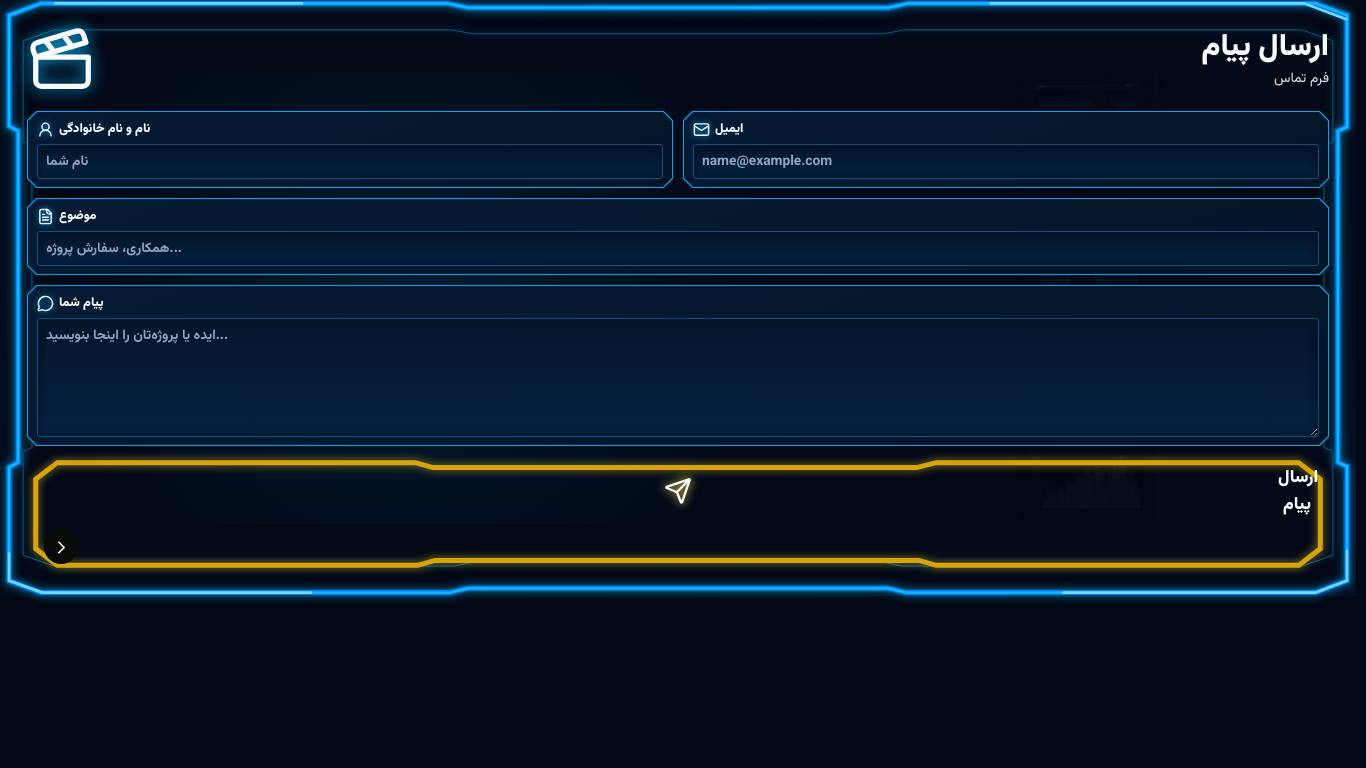
contact message behavior › keeps input available for retry after {}
This screenshot has width=1366, height=768.
Type "Test Editor" into the field labelled "نام و نام خانوادگی" at (350, 162), box [37,144,663,179]
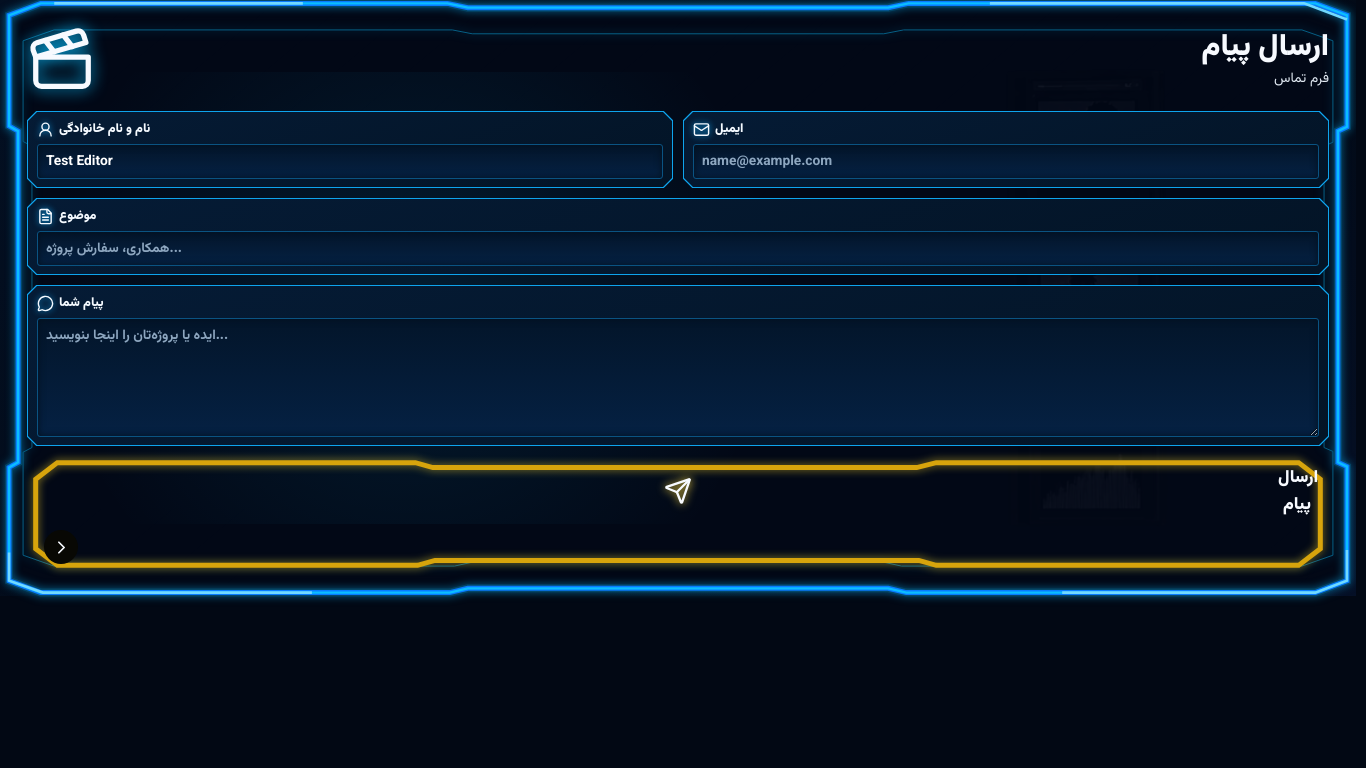
Type "test@example.com" into the field labelled "ایمیل" at (1006, 162), box [693,144,1319,179]
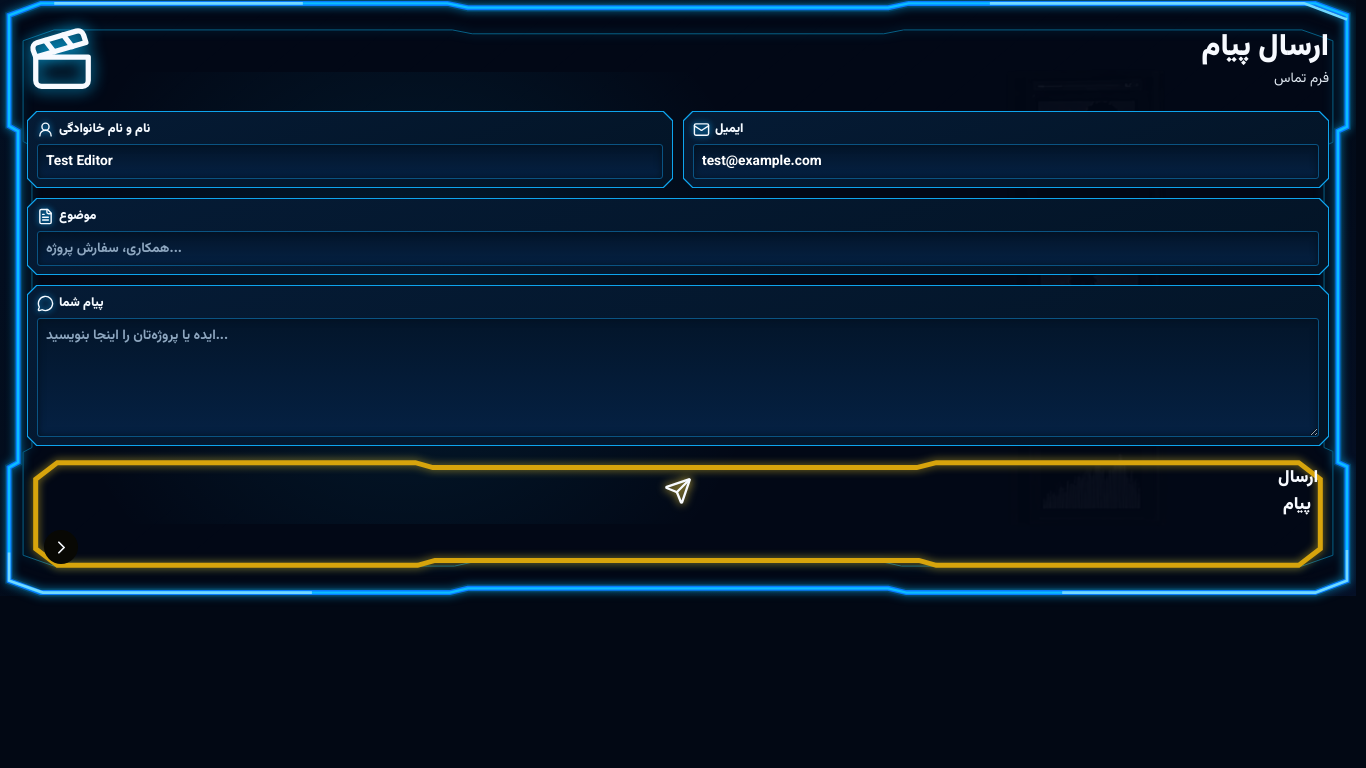
Type "Project request" into the field labelled "موضوع" at (678, 248), box [37,231,1319,266]
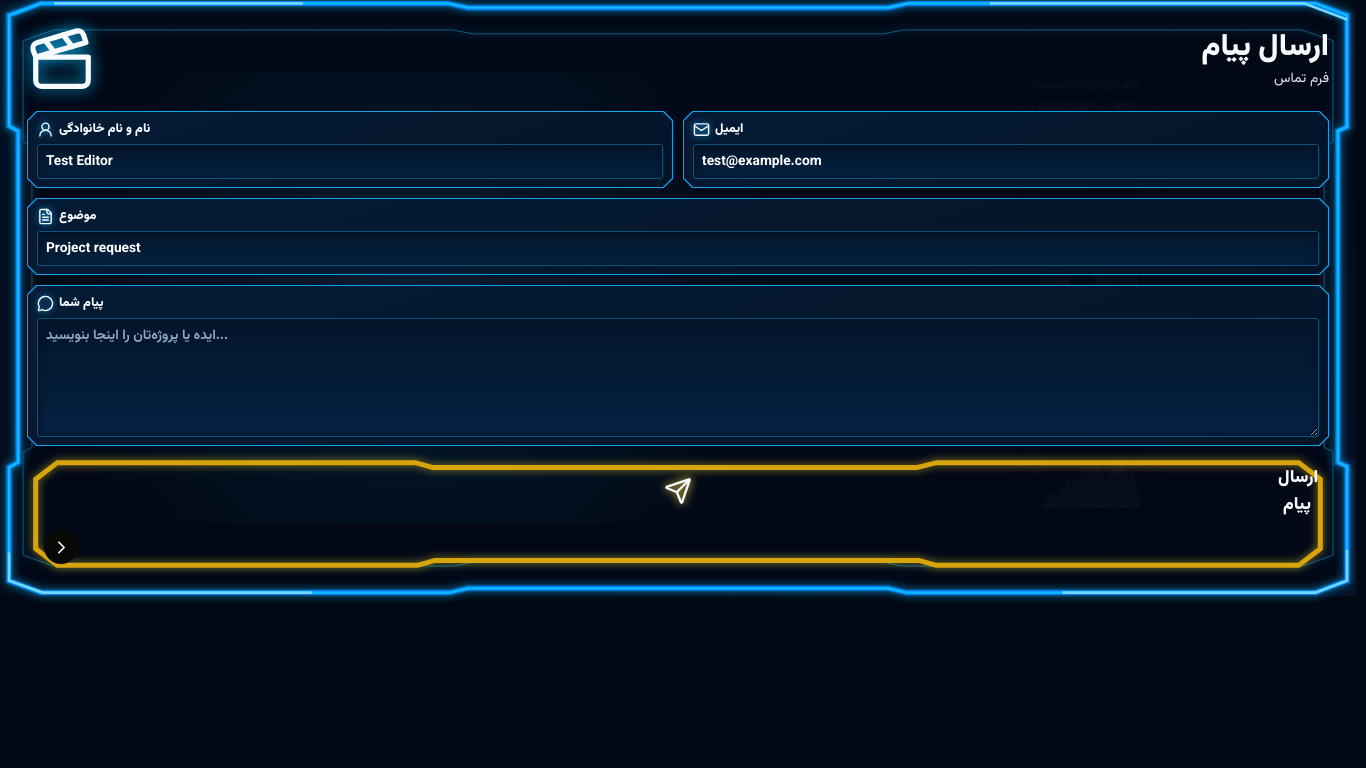
Type "Please edit a sample video project." into the text box labelled "پیام شما" at (678, 378), box [37,318,1319,437]
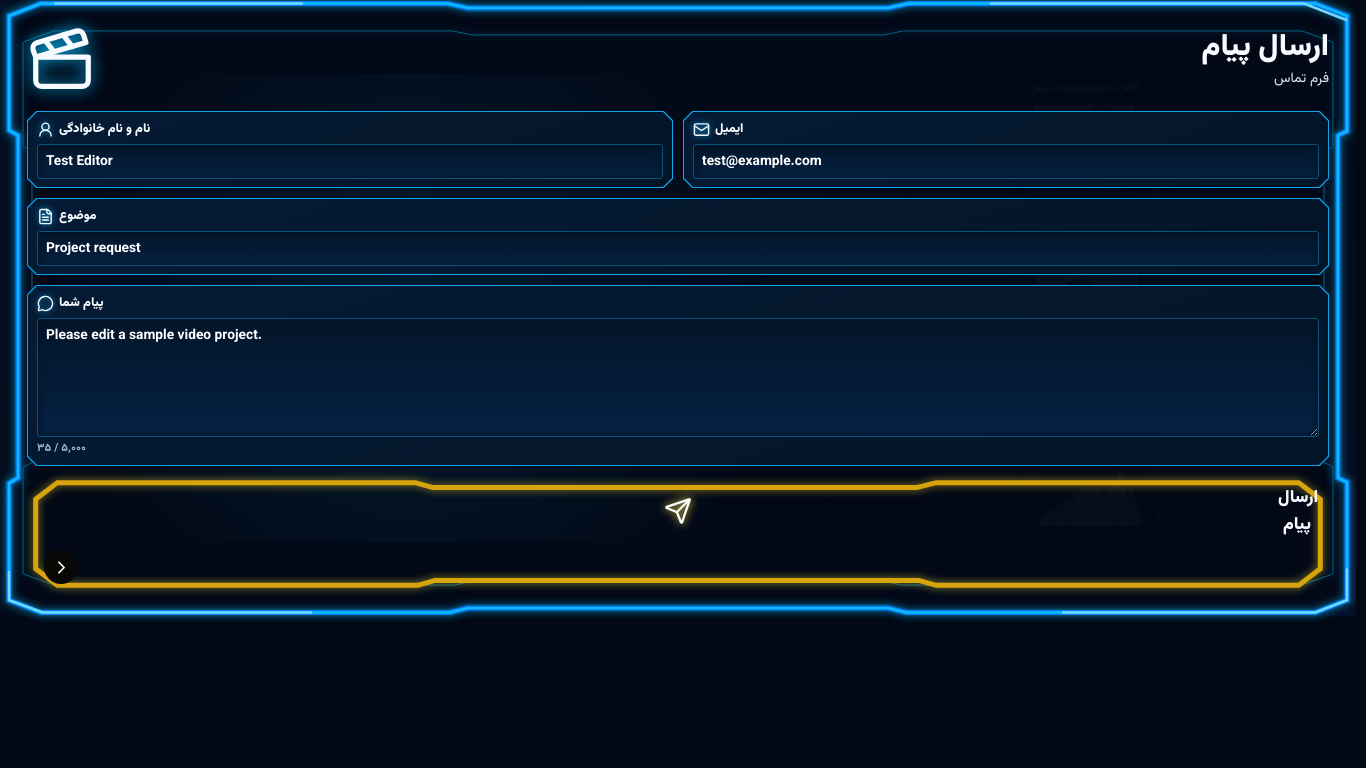
Click the button "ارسال پیام" at (678, 534), box [27,476,1329,592]
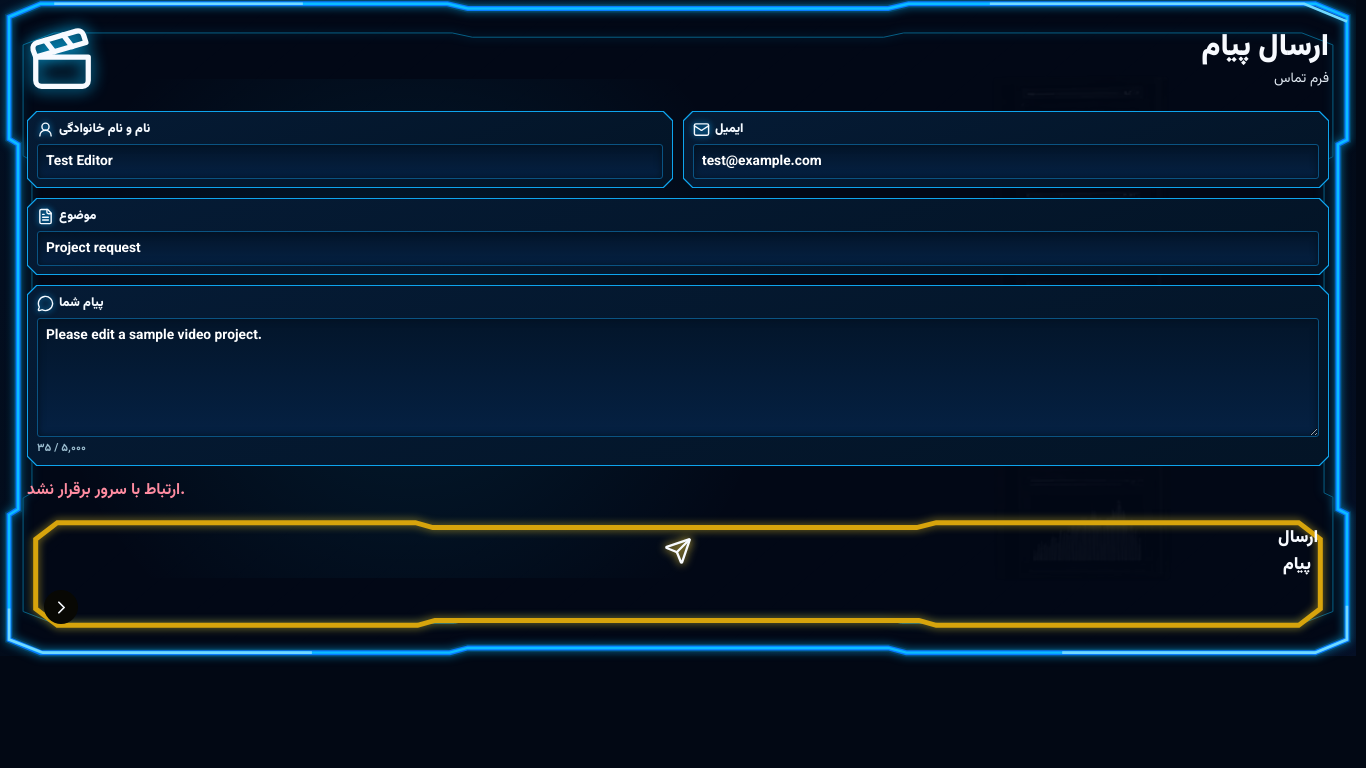
Expected: the button "ارسال پیام" is enabled, [27,516,1329,632]
Result: the text "ارتباط با سرور برقرار نشد." is shown at [27,478,185,503]
